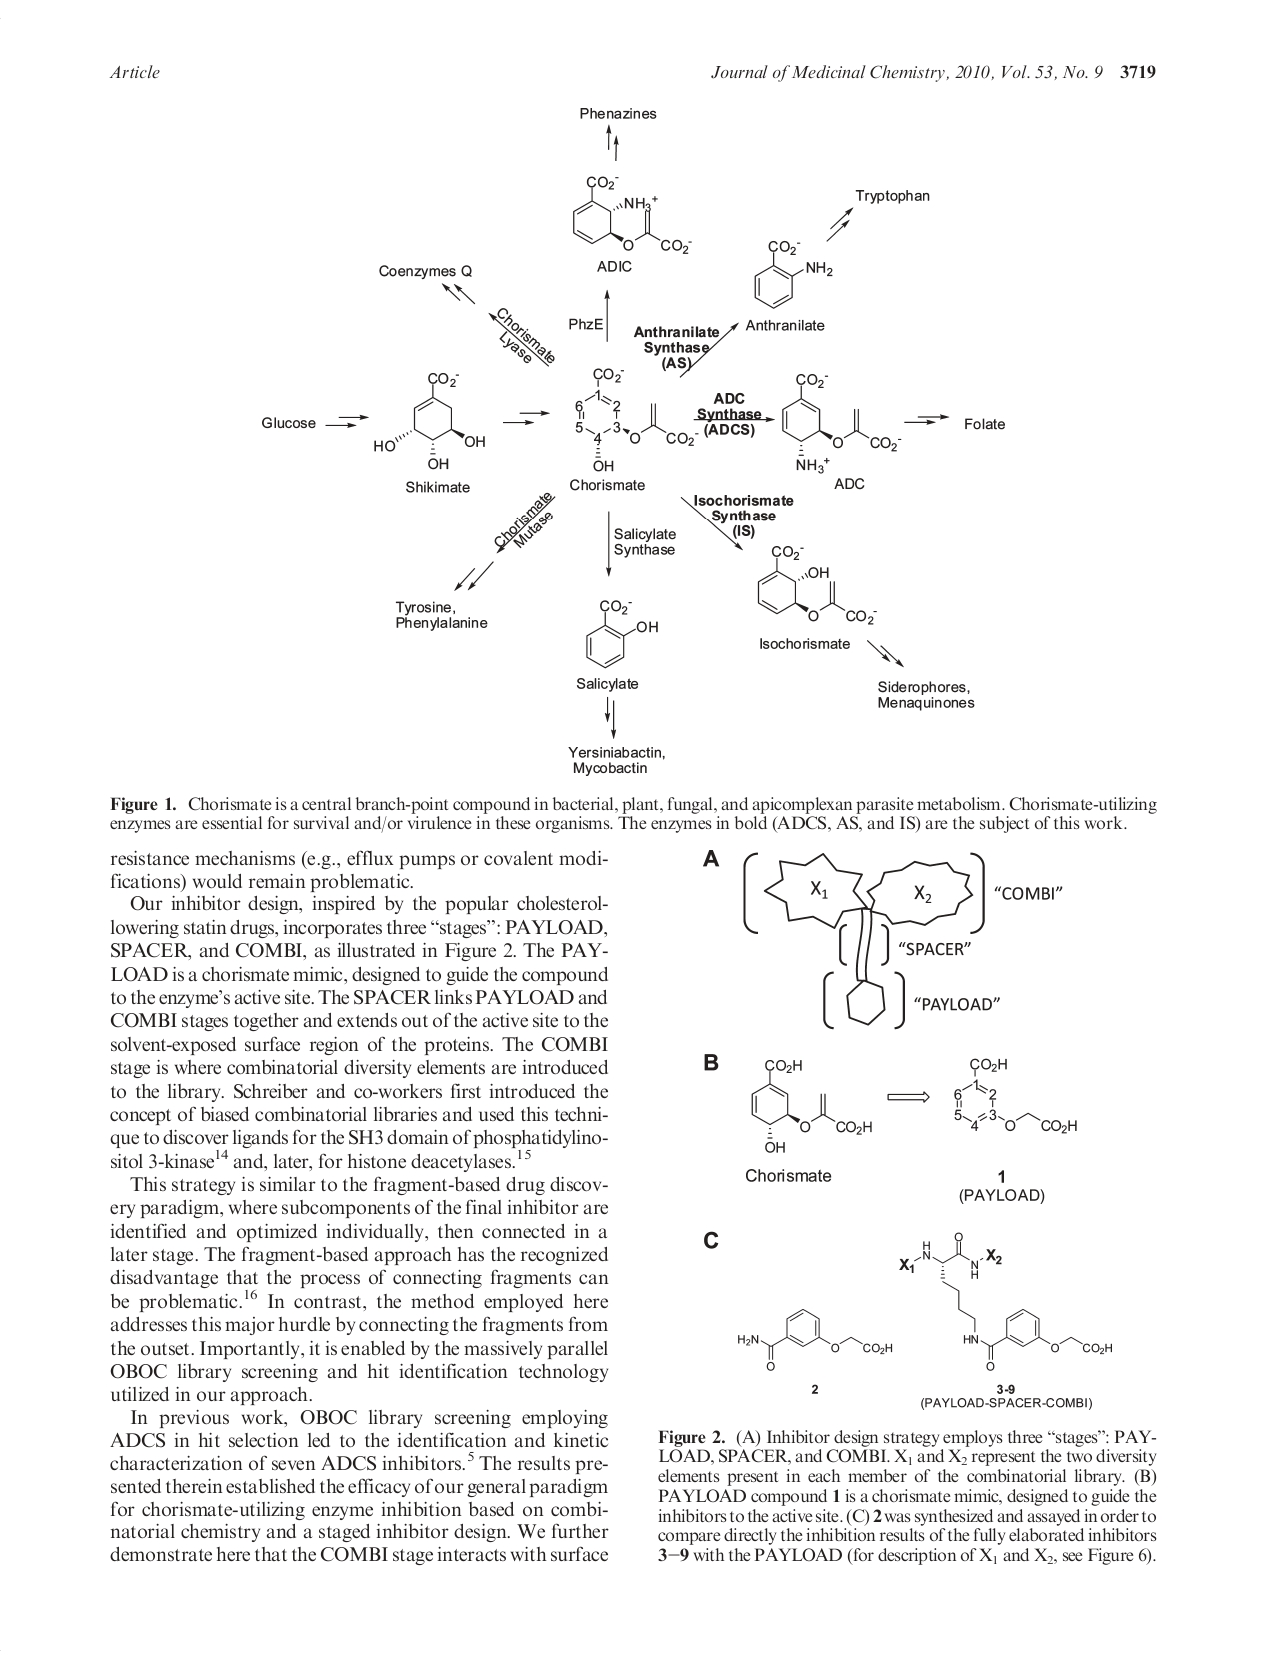exist_molecular: (898, 1229, 1118, 1374), (570, 362, 697, 477), (777, 368, 910, 476), (944, 1051, 1082, 1145), (743, 1053, 871, 1154), (371, 367, 489, 469), (751, 539, 876, 629), (570, 169, 694, 257), (727, 1307, 890, 1372), (747, 229, 836, 307), (578, 596, 666, 674)
